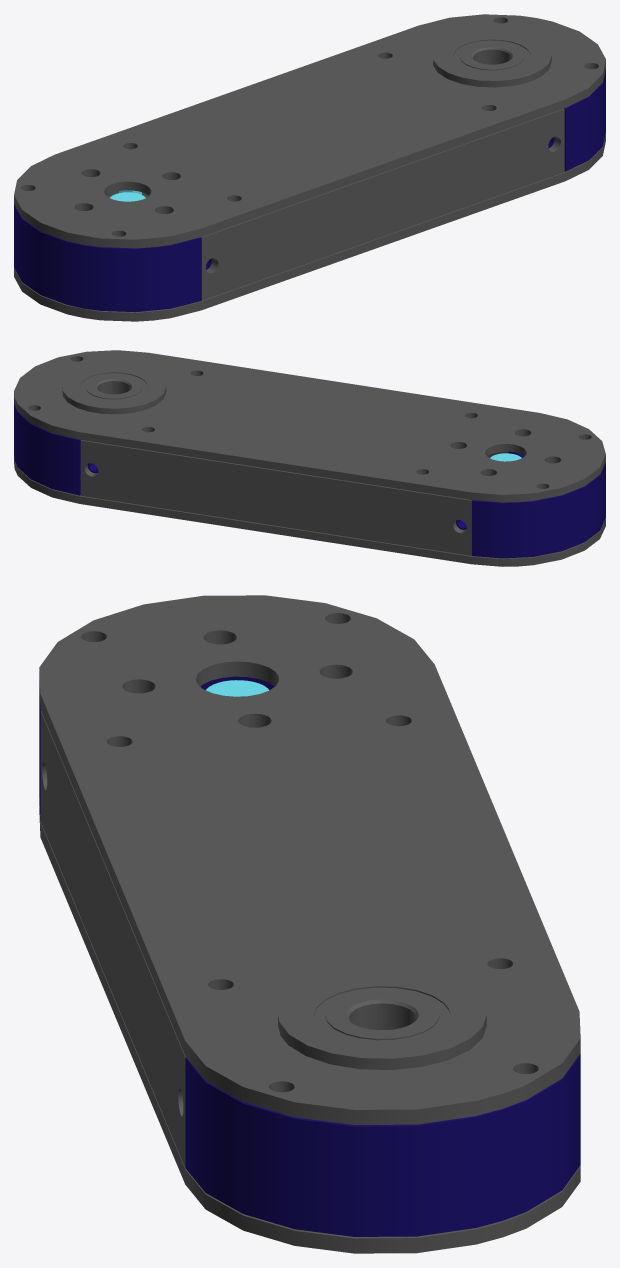
Rendered from StaticMesh2.FBX.
3 views of the same model, one above another, from view 1: azimuth 30°, elevation 25°; view 2: azimuth 150°, elevation 25°; view 3: azimuth 270°, elevation 25° (orthographic). The views are drawn at different scales.
Visible parts, largest first — view 1: StaticMesh2; view 2: StaticMesh2; view 3: StaticMesh2.
Boxes of the visible parts, x1,y1,x2,y2 form: StaticMesh2: [14, 14, 605, 321]; StaticMesh2: [14, 350, 605, 566]; StaticMesh2: [39, 595, 580, 1253].
Bounding box in the file's own units: 14.6 × 6.49 × 2.15.
